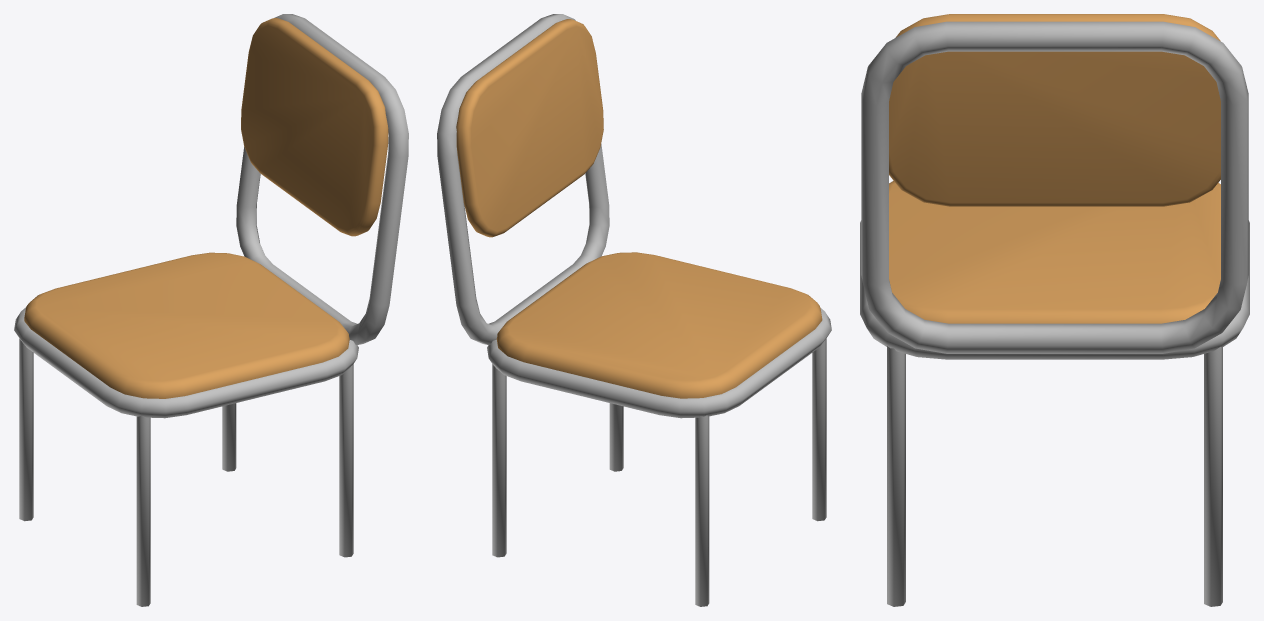
The model's file is Chair01.fbx.
The picture shows the model from 3 angles, left to right: view 1: azimuth 30°, elevation 25°; view 2: azimuth 150°, elevation 25°; view 3: azimuth 270°, elevation 25°; orthographic projection. The views are drawn at different scales.
Visible parts, largest first — view 1: Chair01; view 2: Chair01; view 3: Chair01.
Boxes of the visible parts, x1,y1,x2,y2 form: Chair01: (14,14,408,606); Chair01: (437,14,831,606); Chair01: (860,14,1249,606).
Bounding box in the file's own units: 0.4512 × 0.3936 × 0.6826.
